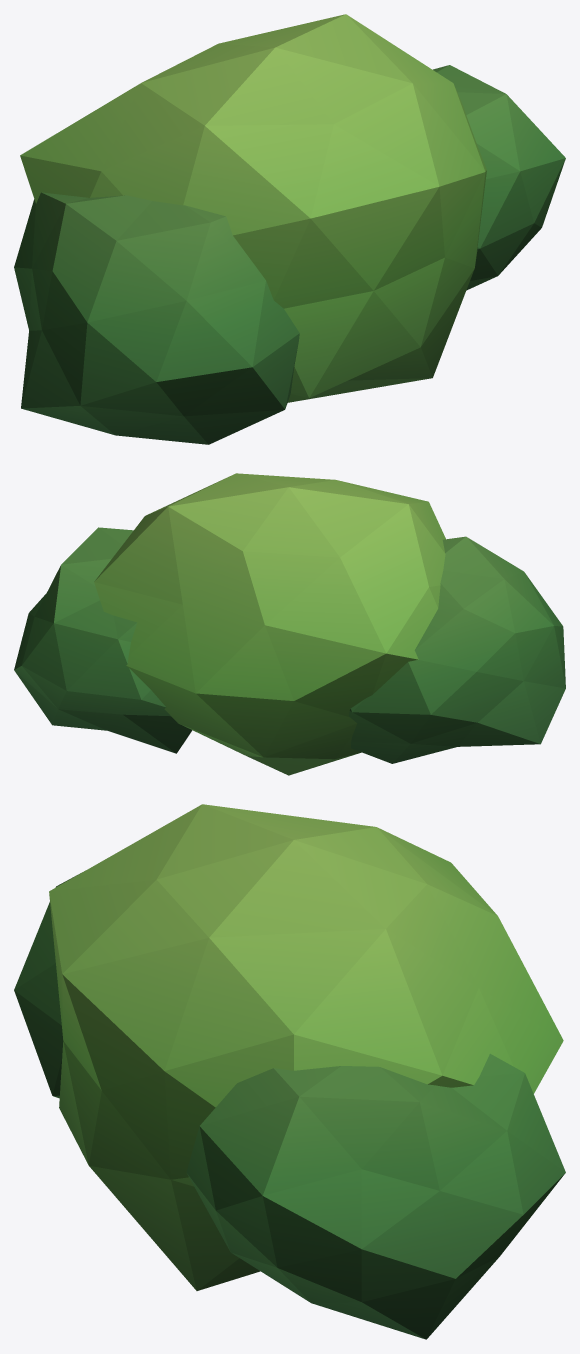
The model's file is bush_a.glb.
The picture shows the model from 3 angles, top to bottom: view 1: azimuth 30°, elevation 25°; view 2: azimuth 150°, elevation 25°; view 3: azimuth 270°, elevation 25°; orthographic projection. The views are drawn at different scales.
Visible parts, largest first — view 1: bush_a; view 2: bush_a; view 3: bush_a.
Boxes of the visible parts, bbox=[...] form: bush_a: bbox=[14, 14, 565, 444]; bush_a: bbox=[14, 473, 565, 775]; bush_a: bbox=[14, 804, 565, 1339].
Size of the model in its own units: 6.89 by 4.08 by 4.88.
Materials: 1 (1 with a texture image).
